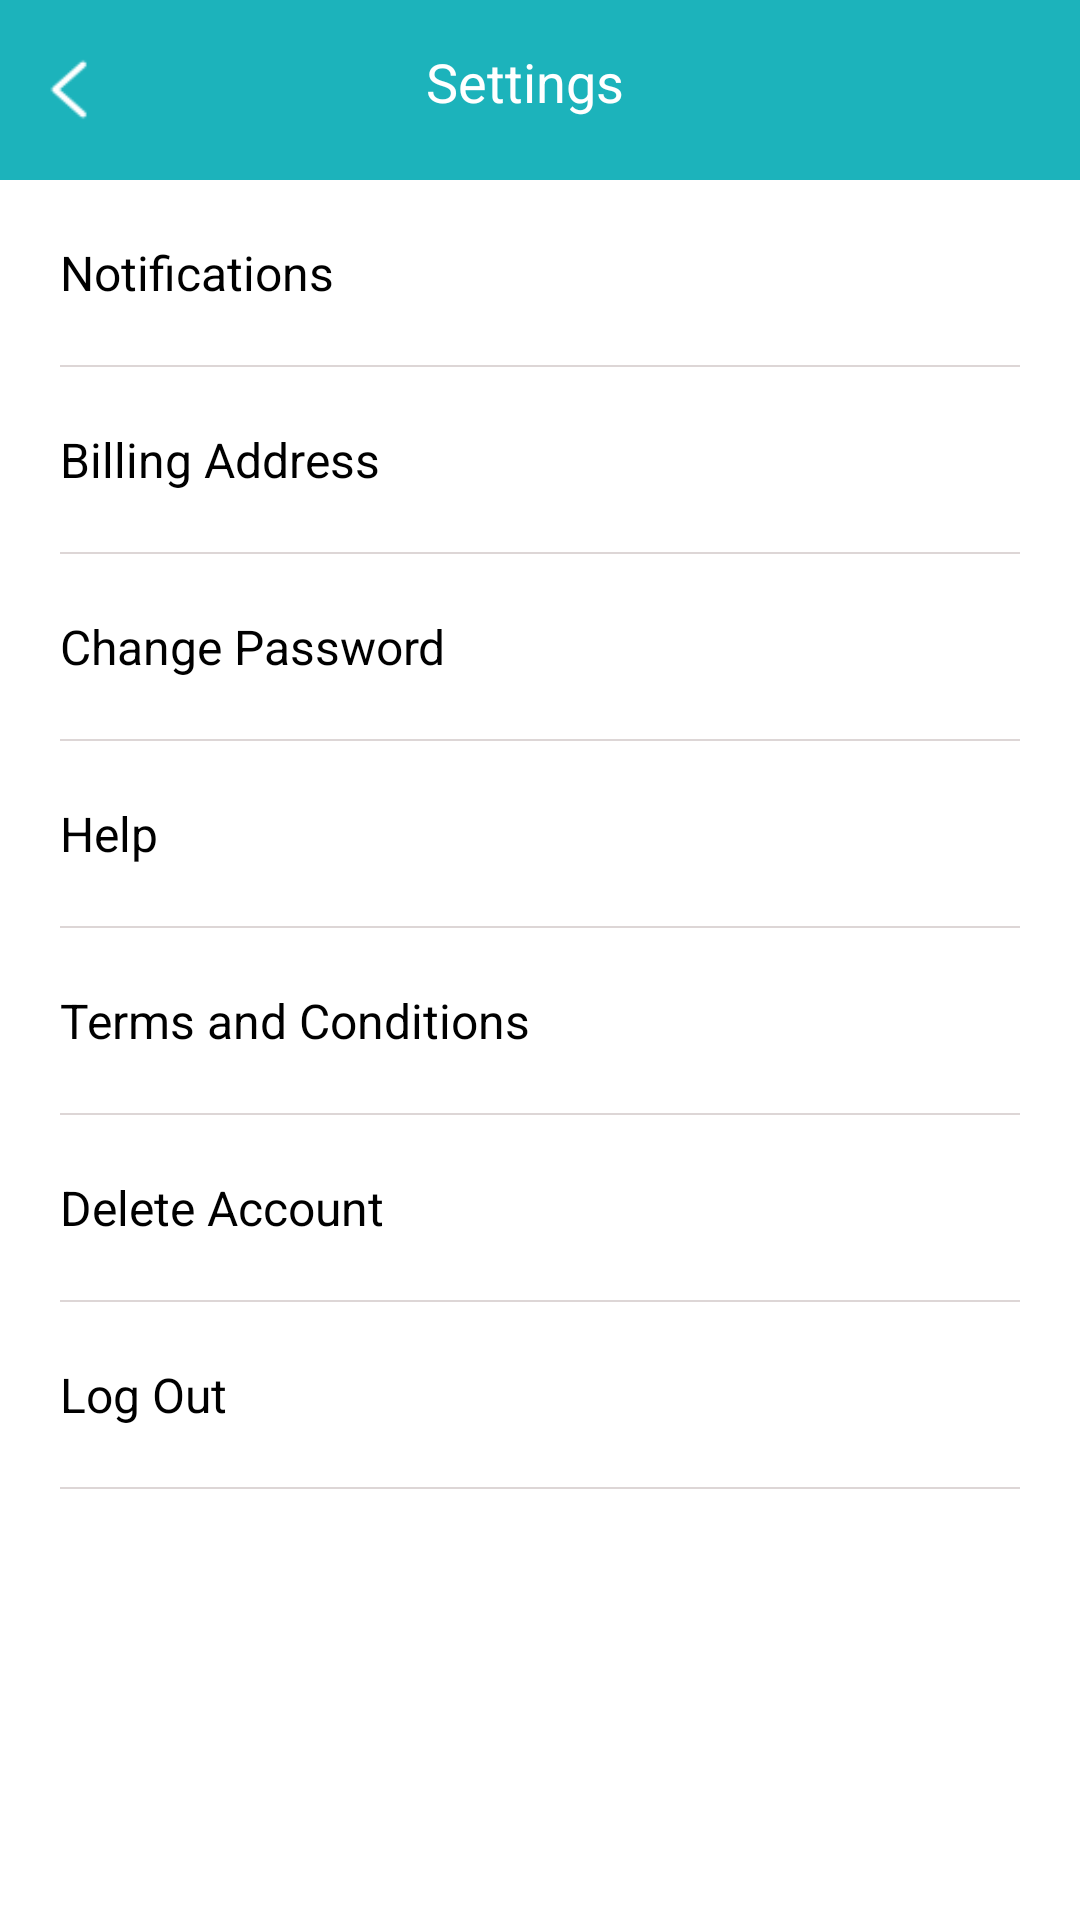

Named icons in this screenshot (1080 x 1920) and their centers, point (x, y):
back: point (68, 89)
